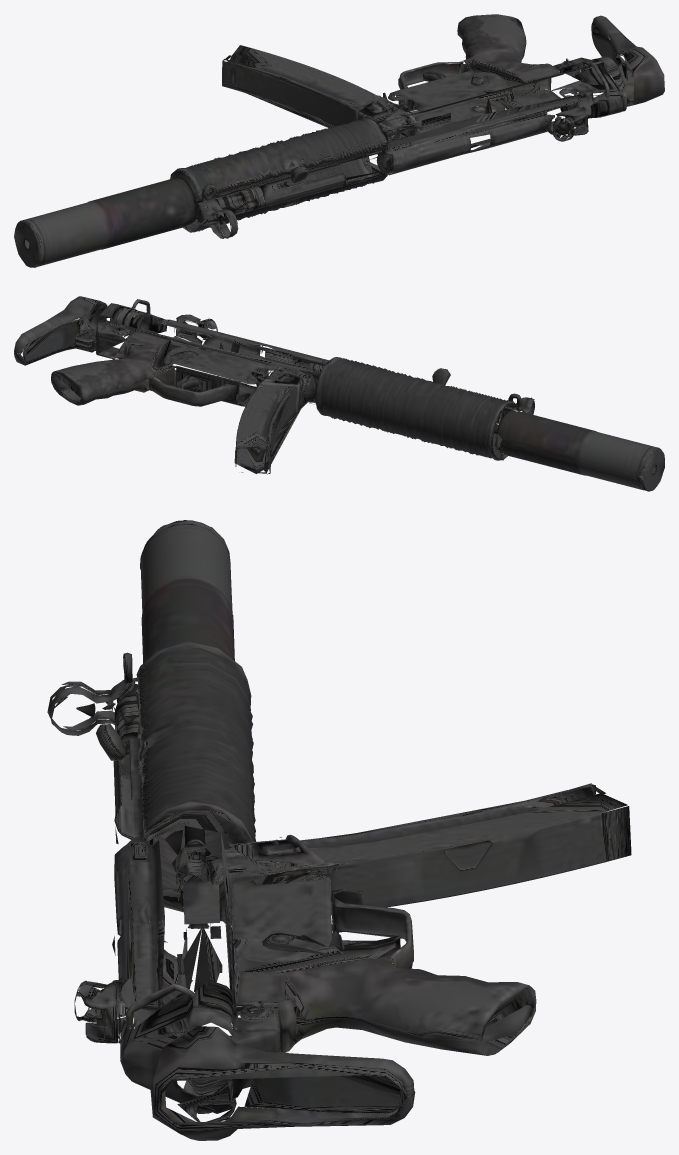
The picture shows the model from 3 angles, top to bottom: view 1: azimuth 30°, elevation 25°; view 2: azimuth 150°, elevation 25°; view 3: azimuth 270°, elevation 25°; orthographic projection. The views are drawn at different scales.
Visible parts, largest first — view 1: w_mp5; view 2: w_mp5; view 3: w_mp5.
Part boxes in pixels (<box>): w_mp5: <box>14,14,664,267</box>; w_mp5: <box>14,296,664,491</box>; w_mp5: <box>47,520,631,1140</box>.
Size of the model in its own units: 0.8202 by 0.0883 by 0.3542.
1 material, 1 textured.
